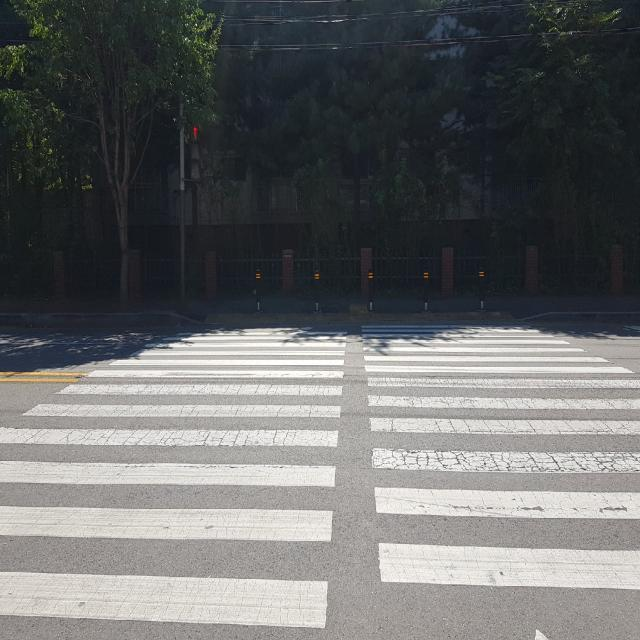빨간불: (191, 126, 200, 180)
횡단보도: (0, 322, 640, 640)
